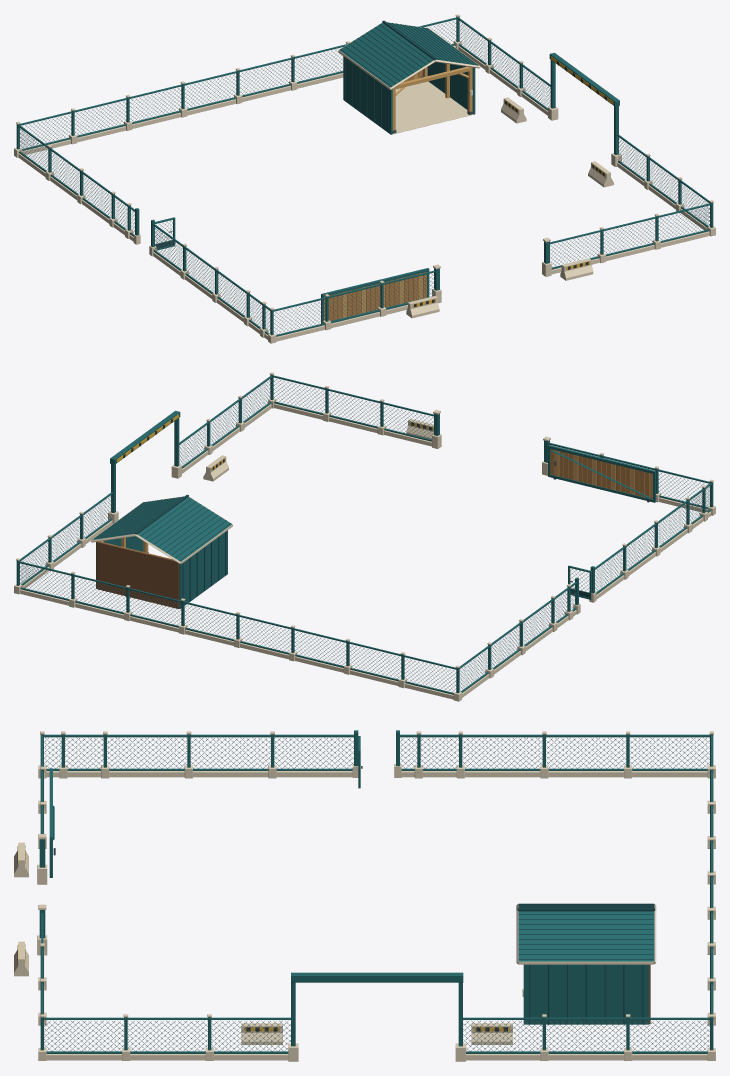
File: architecture.glb
3 renders of one model, top to bottom at view 1: azimuth 30°, elevation 25°; view 2: azimuth 150°, elevation 25°; view 3: azimuth 270°, elevation 25°, orthographic. The views are drawn at different scales.
Visible parts, largest first — view 1: saw-shed-roof-roof-timber-teal.002, saw-shed-shell-timber-teal.001, saw-shed-floor-timber-cream.001, sliding-gate-leaf-gate-leaf-timber-wood.001, saw-shed-roof-roof-timber-teal-dark.002, saw-shed-shell-timber-wood-light.001, truck-entrance-8m-frame-timber-teal.001, sliding-gate-leaf-gate-leaf-timber-teal.001, saw-shed-roof-roof-timber-cream.002, sliding-gate-leaf-gate-leaf-timber-wood-light.001, fence-panel-4m-fence-wire-timber-wire.003, fence-panel-4m-fence-wire-timber-wire.002 (+8 smaller); view 2: saw-shed-roof-roof-timber-teal.002, saw-shed-shell-timber-wood-dark.001, saw-shed-shell-timber-teal.001, sliding-gate-leaf-gate-leaf-timber-wood.001, saw-shed-roof-roof-timber-teal-dark.002, sliding-gate-leaf-gate-leaf-timber-teal.001, truck-entrance-8m-frame-timber-teal.001, sliding-gate-leaf-gate-leaf-timber-wood-light.001, saw-shed-roof-roof-timber-cream.002, fence-panel-4m-fence-wire-timber-wire.002, fence-panel-4m-fence-wire-timber-wire.001, fence-panel-4m-fence-wire-timber-wire.013 (+8 smaller); view 3: saw-shed-shell-timber-teal.001, saw-shed-roof-roof-timber-teal.002, saw-shed-roof-roof-timber-teal-dark.002, truck-entrance-8m-frame-timber-teal.001, fence-panel-4m-fence-wire-timber-wire.021, fence-panel-4m-fence-wire-timber-wire.025, fence-panel-4m-fence-wire-timber-wire.024, fence-panel-4m-fence-wire-timber-wire.026, fence-panel-4m-fence-wire-timber-wire.023, fence-panel-4m-fence-wire-timber-wire.022, fence-panel-4m-fence-wire-timber-wire.020, fence-panel-4m-fence-wire-timber-wire.016 (+24 smaller).
Part boxes in pixels (bbox=[...]): saw-shed-roof-roof-timber-teal.002: bbox=[339, 22, 478, 87]; saw-shed-shell-timber-teal.001: bbox=[343, 56, 475, 134]; saw-shed-floor-timber-cream.001: bbox=[392, 81, 473, 134]; sliding-gate-leaf-gate-leaf-timber-wood.001: bbox=[328, 272, 426, 320]; saw-shed-roof-roof-timber-teal-dark.002: bbox=[340, 20, 478, 86]; saw-shed-shell-timber-wood-light.001: bbox=[392, 63, 472, 130]; truck-entrance-8m-frame-timber-teal.001: bbox=[549, 52, 619, 154]; sliding-gate-leaf-gate-leaf-timber-teal.001: bbox=[321, 268, 429, 323]; saw-shed-roof-roof-timber-cream.002: bbox=[338, 22, 480, 89]; sliding-gate-leaf-gate-leaf-timber-wood-light.001: bbox=[324, 273, 422, 320]; fence-panel-4m-fence-wire-timber-wire.003: bbox=[130, 87, 181, 121]; fence-panel-4m-fence-wire-timber-wire.002: bbox=[75, 100, 126, 134]; saw-shed-roof-roof-timber-teal.002: bbox=[92, 496, 231, 561]; saw-shed-shell-timber-wood-dark.001: bbox=[96, 541, 179, 608]; saw-shed-shell-timber-teal.001: bbox=[96, 530, 227, 608]; sliding-gate-leaf-gate-leaf-timber-wood.001: bbox=[550, 449, 649, 497]; saw-shed-roof-roof-timber-teal-dark.002: bbox=[93, 494, 230, 560]; sliding-gate-leaf-gate-leaf-timber-teal.001: bbox=[548, 445, 655, 502]; truck-entrance-8m-frame-timber-teal.001: bbox=[110, 410, 180, 512]; sliding-gate-leaf-gate-leaf-timber-wood-light.001: bbox=[554, 450, 652, 499]; saw-shed-roof-roof-timber-cream.002: bbox=[90, 496, 232, 563]; fence-panel-4m-fence-wire-timber-wire.002: bbox=[349, 644, 400, 678]; fence-panel-4m-fence-wire-timber-wire.001: bbox=[404, 658, 455, 692]; fence-panel-4m-fence-wire-timber-wire.013: bbox=[328, 391, 379, 425]; saw-shed-shell-timber-teal.001: bbox=[523, 964, 648, 1024]; saw-shed-roof-roof-timber-teal.002: bbox=[518, 904, 654, 961]; saw-shed-roof-roof-timber-teal-dark.002: bbox=[517, 903, 654, 959]; truck-entrance-8m-frame-timber-teal.001: bbox=[291, 972, 463, 1046]; fence-panel-4m-fence-wire-timber-wire.021: bbox=[630, 737, 709, 768]; fence-panel-4m-fence-wire-timber-wire.025: bbox=[190, 737, 270, 768]; fence-panel-4m-fence-wire-timber-wire.024: bbox=[274, 737, 353, 768]; fence-panel-4m-fence-wire-timber-wire.026: bbox=[107, 737, 186, 768]; fence-panel-4m-fence-wire-timber-wire.023: bbox=[462, 737, 542, 768]; fence-panel-4m-fence-wire-timber-wire.022: bbox=[546, 737, 626, 768]; fence-panel-4m-fence-wire-timber-wire.020: bbox=[44, 1020, 124, 1051]; fence-panel-4m-fence-wire-timber-wire.016: bbox=[546, 1020, 626, 1051].
Size of the model in its own units: 32.45 by 4.69 by 33.56.
